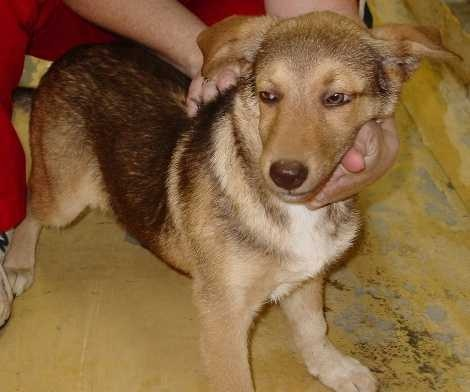Dog: (50, 0, 469, 391)
